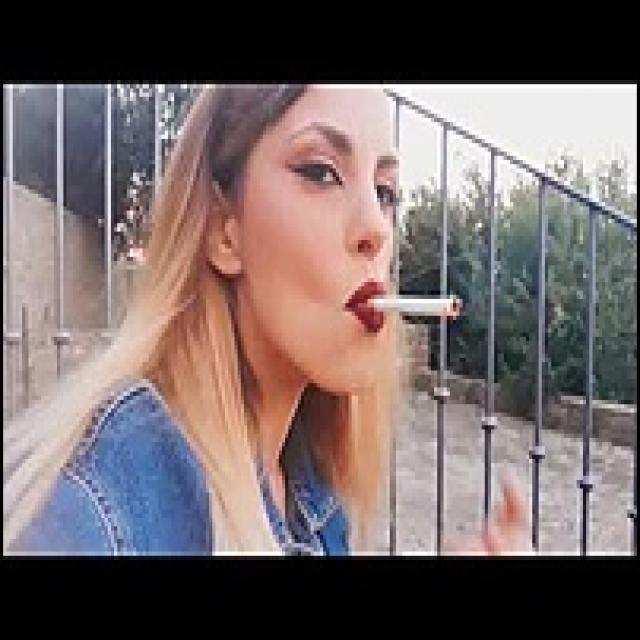rokok: (355, 284, 465, 332)
